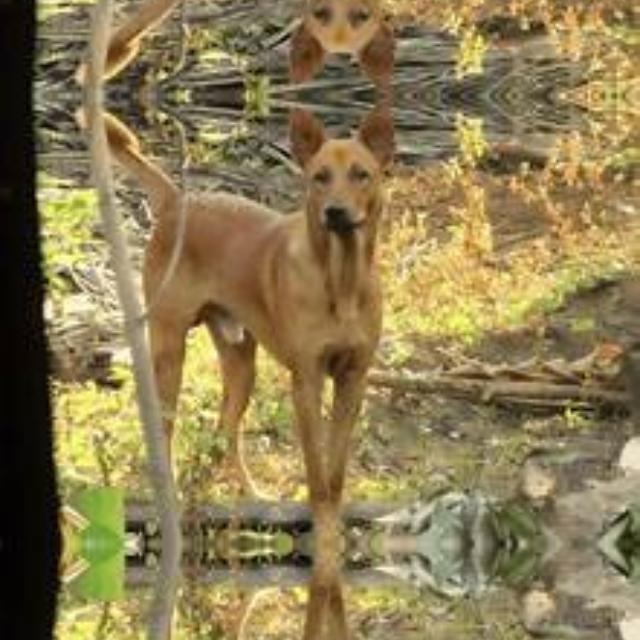dog: (84, 102, 423, 532), (84, 0, 423, 87), (84, 556, 423, 640)
